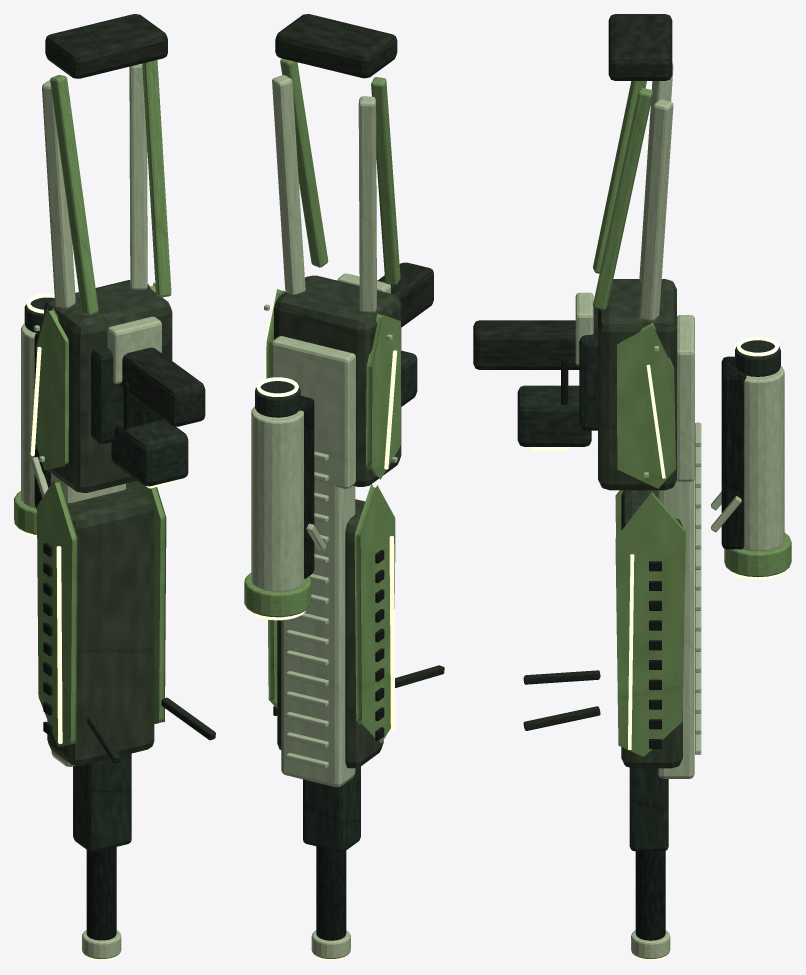
Rendered from CROSSFIRE_L7_Hero.glb.
The picture shows the model from 3 angles, left to right: view 1: azimuth 30°, elevation 25°; view 2: azimuth 150°, elevation 25°; view 3: azimuth 270°, elevation 25°; orthographic projection.
Parts seen in each view (by area): view 1: L7 / long matte handguard, 01 / central monocoque, L7 / split shell side -1, L7 / fixed stock cushion, L7 / tip assembly, 06 / sculpted receiver cheek-1, 04 / pistol grip, L7 / hollow stock diagonal -1, L7 / lower energy capsule, L7 / hollow stock outer rail 1, L7 / hollow stock outer rail -1, L7 / hollow stock diagonal 1 (+15 smaller); view 2: L7 / elongated chassis spine, L7 / long illuminated optic, 01 / central monocoque, L7 / split shell side -1, 02 / receiver crown, L7 / fixed stock cushion, L7 / hollow stock outer rail 1, 06 / sculpted receiver cheek-1, L7 / long matte handguard, L7 / hollow stock outer rail -1, L7 / tip assembly, L7 / hollow stock diagonal -1 (+12 smaller); view 3: L7 / split shell side 1, 06 / sculpted receiver cheek1, 01 / central monocoque, L7 / long illuminated optic, 04 / pistol grip, L7 / hollow stock outer rail 1, L7 / elongated chassis spine, L7 / fixed stock cushion, L7 / precision optics backbone, L7 / lower energy capsule, L7 / hollow stock diagonal 1, L7 / tip assembly (+13 smaller).
Boxes of the visible parts, x1,y1,x2,y2 form: L7 / long matte handguard: (47, 484, 154, 765); 01 / central monocoque: (44, 280, 172, 492); L7 / split shell side -1: (37, 479, 77, 746); L7 / fixed stock cushion: (45, 14, 167, 78); L7 / tip assembly: (73, 753, 131, 852); 06 / sculpted receiver cheek-1: (35, 307, 68, 470); 04 / pistol grip: (120, 347, 205, 426); L7 / hollow stock diagonal -1: (50, 75, 98, 315); L7 / lower energy capsule: (111, 420, 188, 486); L7 / hollow stock outer rail 1: (129, 63, 147, 289); L7 / hollow stock outer rail -1: (42, 80, 75, 308); L7 / hollow stock diagonal 1: (142, 60, 171, 297); L7 / elongated chassis spine: (281, 480, 355, 787); L7 / long illuminated optic: (251, 406, 304, 591); 01 / central monocoque: (274, 275, 401, 486); L7 / split shell side -1: (354, 484, 395, 743); 02 / receiver crown: (271, 336, 355, 488); L7 / fixed stock cushion: (275, 14, 397, 78); L7 / hollow stock outer rail 1: (272, 75, 305, 294); 06 / sculpted receiver cheek-1: (366, 313, 400, 479); L7 / long matte handguard: (277, 499, 383, 768); L7 / hollow stock outer rail -1: (358, 96, 376, 313); L7 / tip assembly: (303, 766, 360, 851); L7 / hollow stock diagonal -1: (371, 77, 400, 284); L7 / split shell side 1: (615, 492, 685, 756); 06 / sculpted receiver cheek1: (617, 322, 675, 488); 01 / central monocoque: (598, 279, 676, 490); L7 / long illuminated optic: (743, 366, 784, 551); 04 / pistol grip: (473, 320, 579, 369); L7 / hollow stock outer rail 1: (639, 99, 673, 321); L7 / elongated chassis spine: (658, 479, 694, 778); L7 / fixed stock cushion: (608, 14, 672, 80); L7 / precision optics backbone: (721, 356, 746, 549); L7 / lower energy capsule: (517, 385, 591, 446); L7 / hollow stock diagonal 1: (593, 88, 652, 310); L7 / tip assembly: (629, 768, 668, 851).
Bounding box in the file's own units: 0.5125 × 3.49 × 1.09.
Materials: 7 (7 with a texture image).
